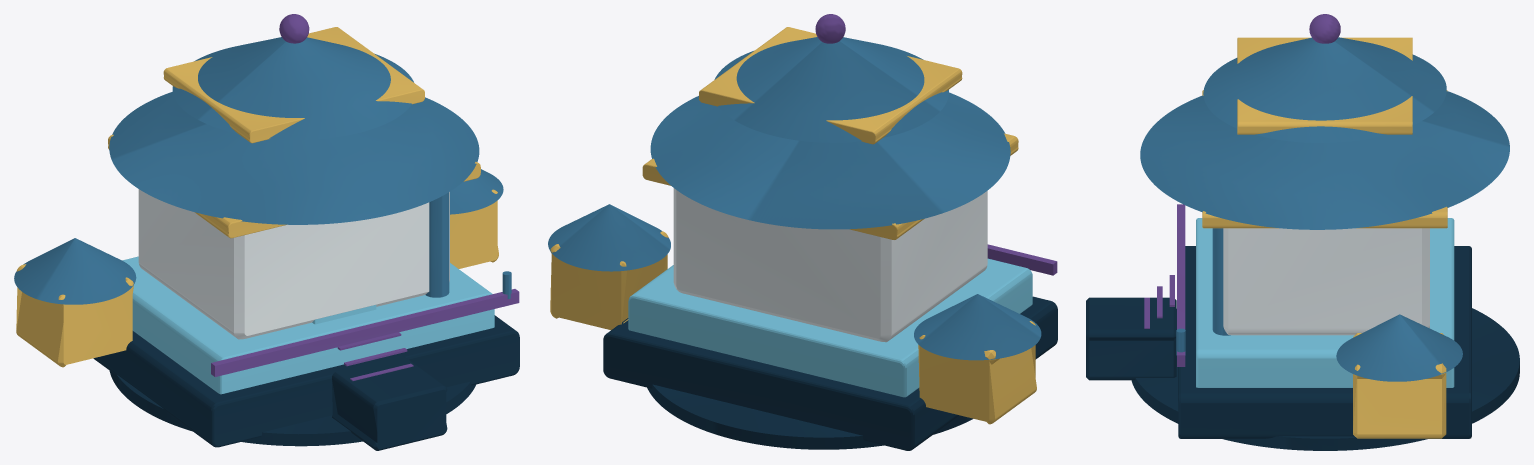
Rendered from 0920_秦汉图鉴_未央宫前殿.glb.
The picture shows the model from 3 angles, left to right: view 1: azimuth 30°, elevation 25°; view 2: azimuth 150°, elevation 25°; view 3: azimuth 270°, elevation 25°; orthographic projection.
Parts seen in each view (by area): view 1: card_0920; view 2: card_0920; view 3: card_0920.
Boxes of the visible parts, left/top/right/bottom form: card_0920: left=14, top=14, right=519, bottom=450; card_0920: left=548, top=14, right=1057, bottom=450; card_0920: left=1086, top=14, right=1519, bottom=450.
Size of the model in its own units: 1.41 by 1 by 1.1.
